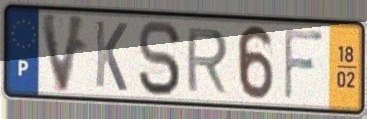6: (234, 22, 276, 104)
F: (282, 26, 326, 103)
K: (93, 18, 129, 94)
R: (184, 27, 230, 96)
S: (136, 18, 183, 99)
V: (37, 10, 90, 97)
